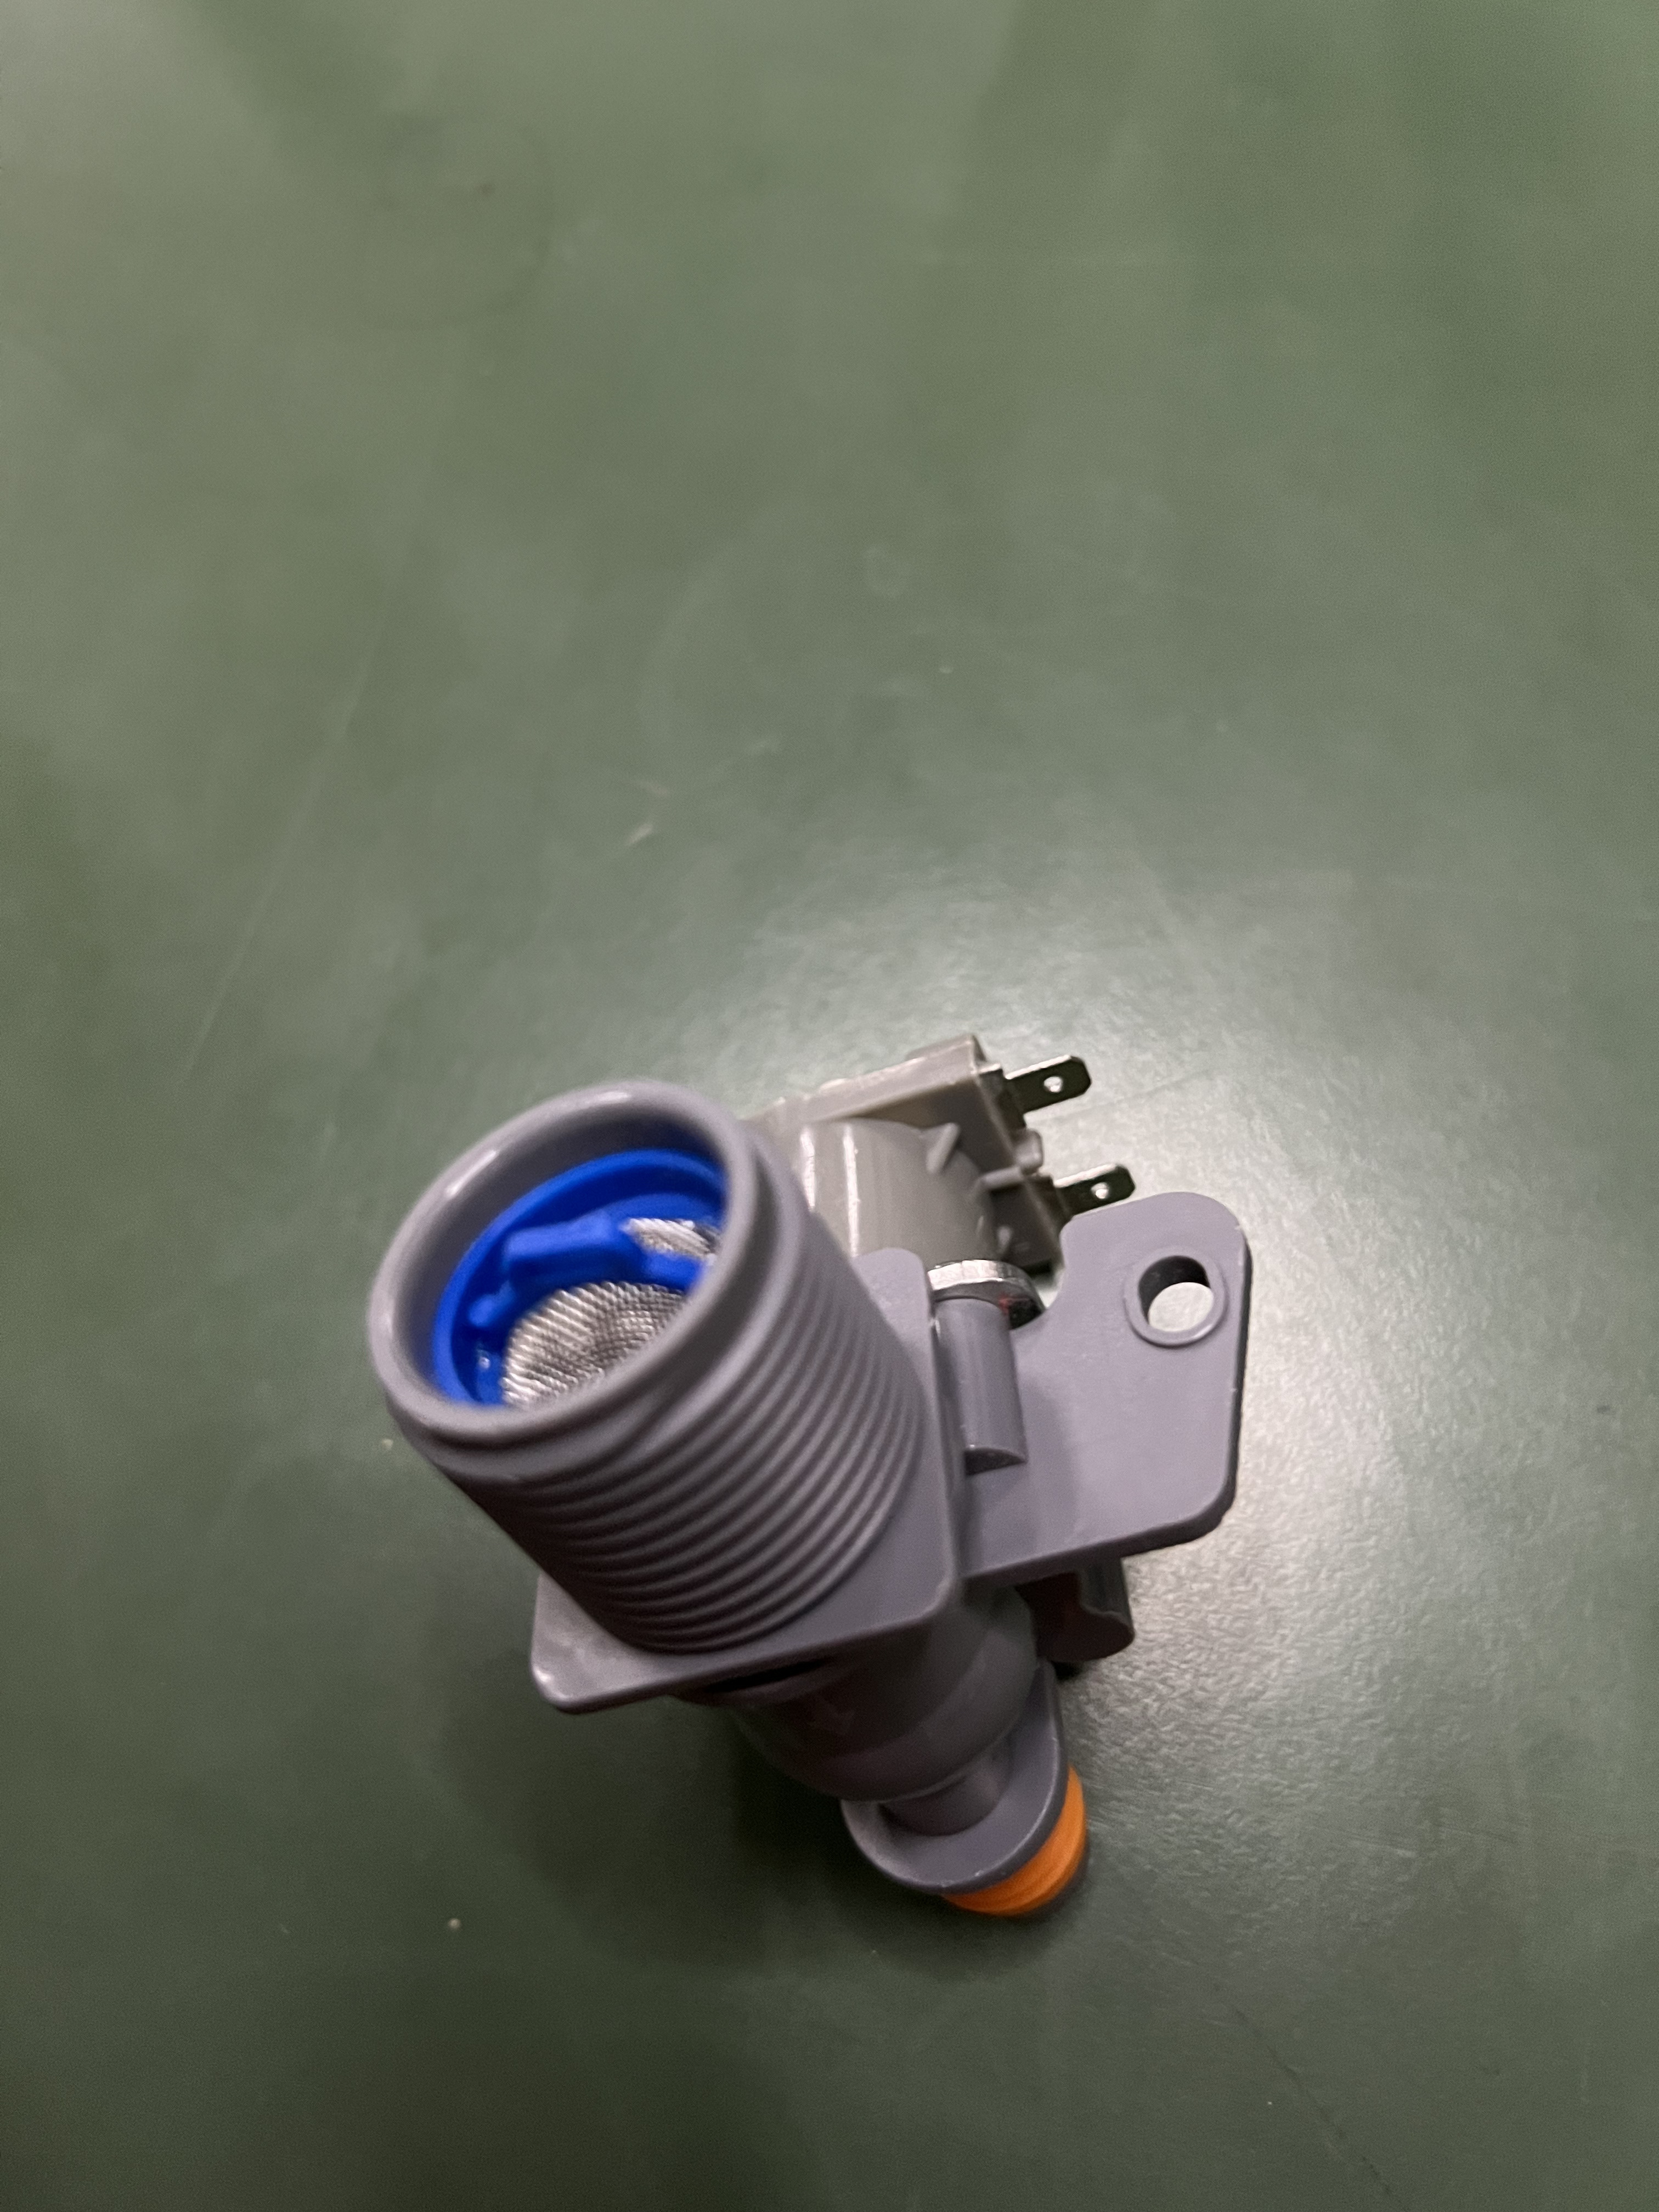inlet_valves: (322, 1017, 1300, 1925)
